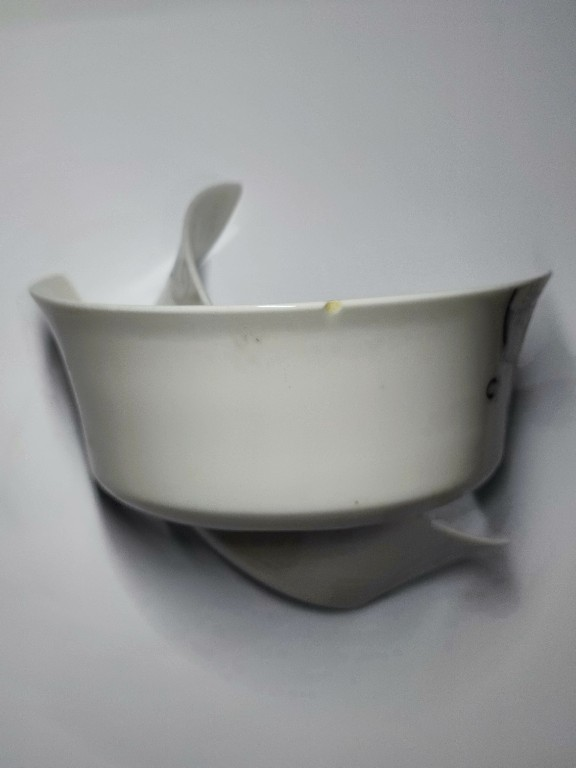ceramics: (21, 176, 561, 622)
